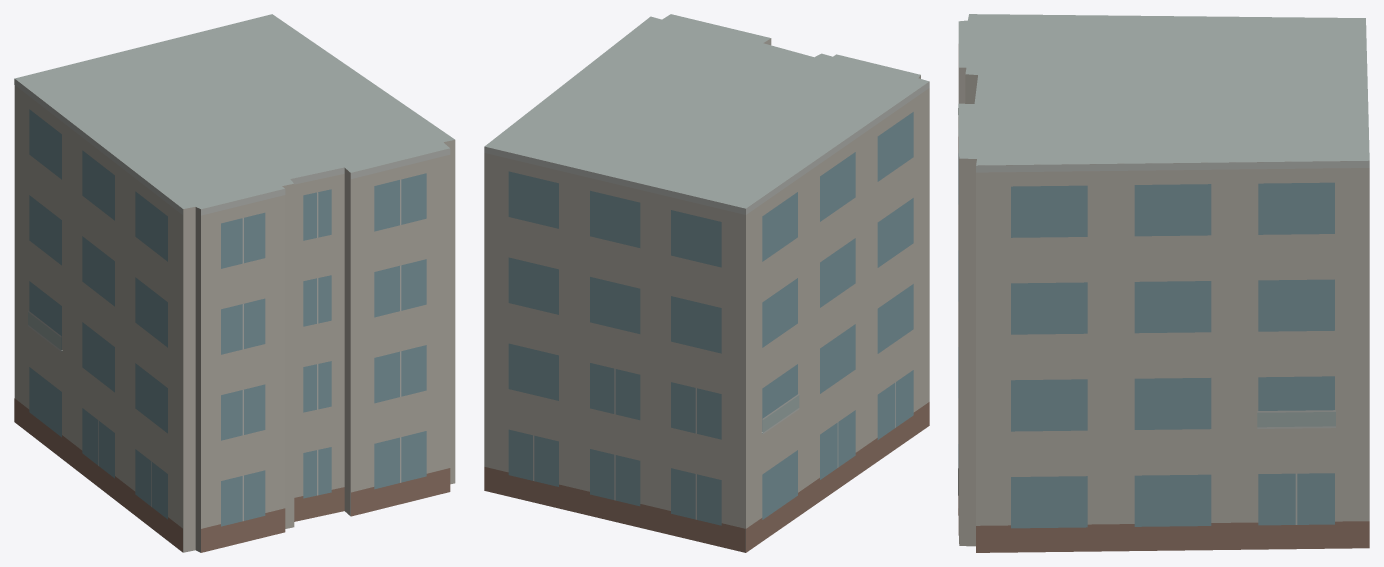
Rendered from survey-upis-32923501.glb.
3 renders of one model, left to right at view 1: azimuth 30°, elevation 25°; view 2: azimuth 150°, elevation 25°; view 3: azimuth 270°, elevation 25°, orthographic. The views are drawn at different scales.
Parts seen in each view (by area): view 1: survey-upis-32923501.tmp; view 2: survey-upis-32923501.tmp; view 3: survey-upis-32923501.tmp.
Boxes of the visible parts, <box> form: survey-upis-32923501.tmp: <box>14,14,455,552</box>; survey-upis-32923501.tmp: <box>484,14,929,552</box>; survey-upis-32923501.tmp: <box>958,14,1369,552</box>.
Size of the model in its own units: 11.08 by 13.2 by 12.72.
